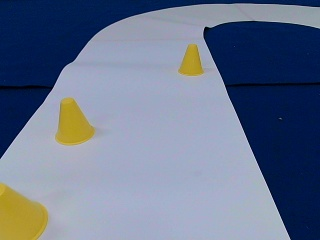cone: (1, 183, 48, 239), (54, 98, 96, 144), (178, 44, 203, 75)
